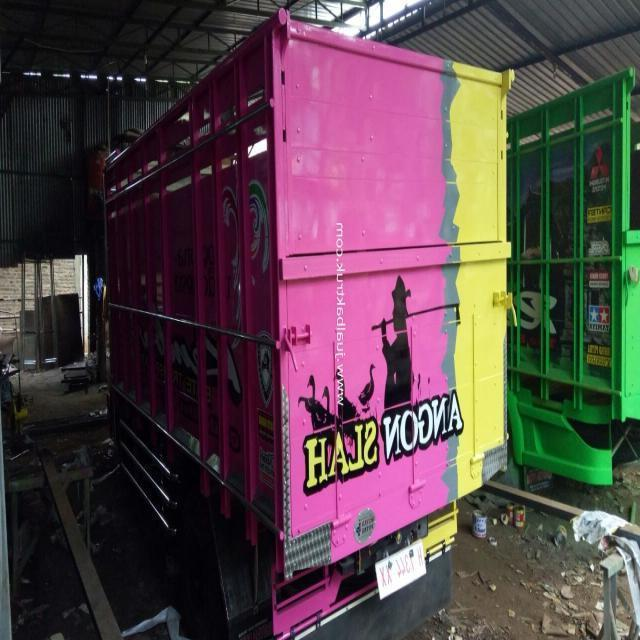truck: (100, 35, 517, 640)
